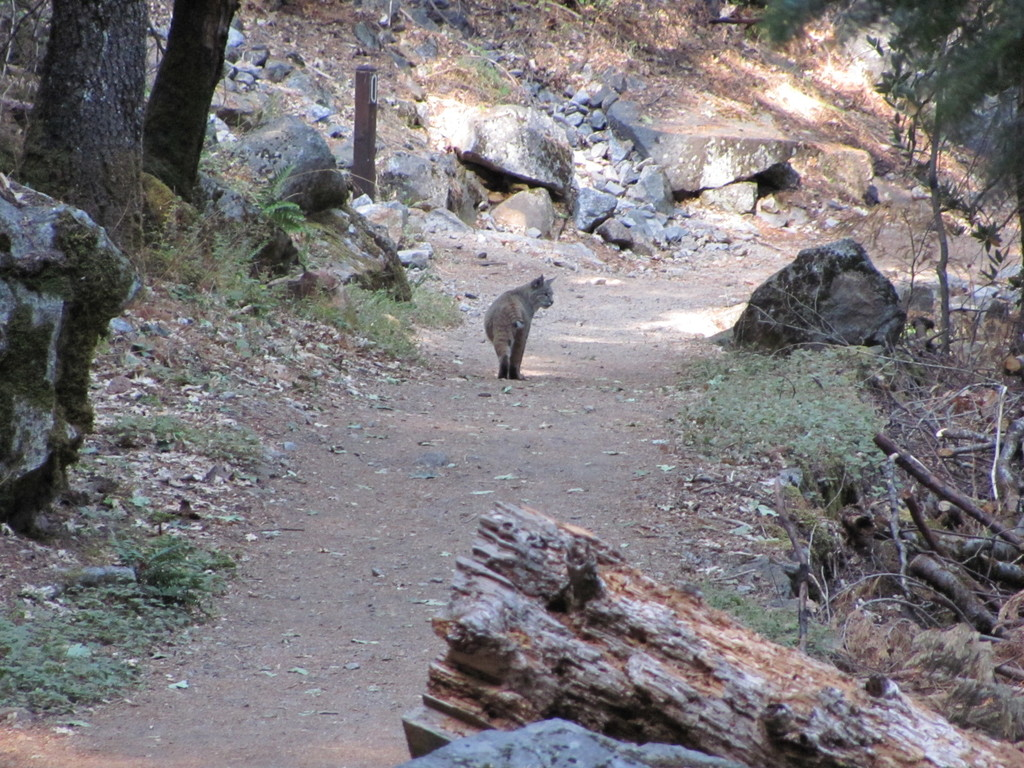Animal: (478, 279, 559, 375)
